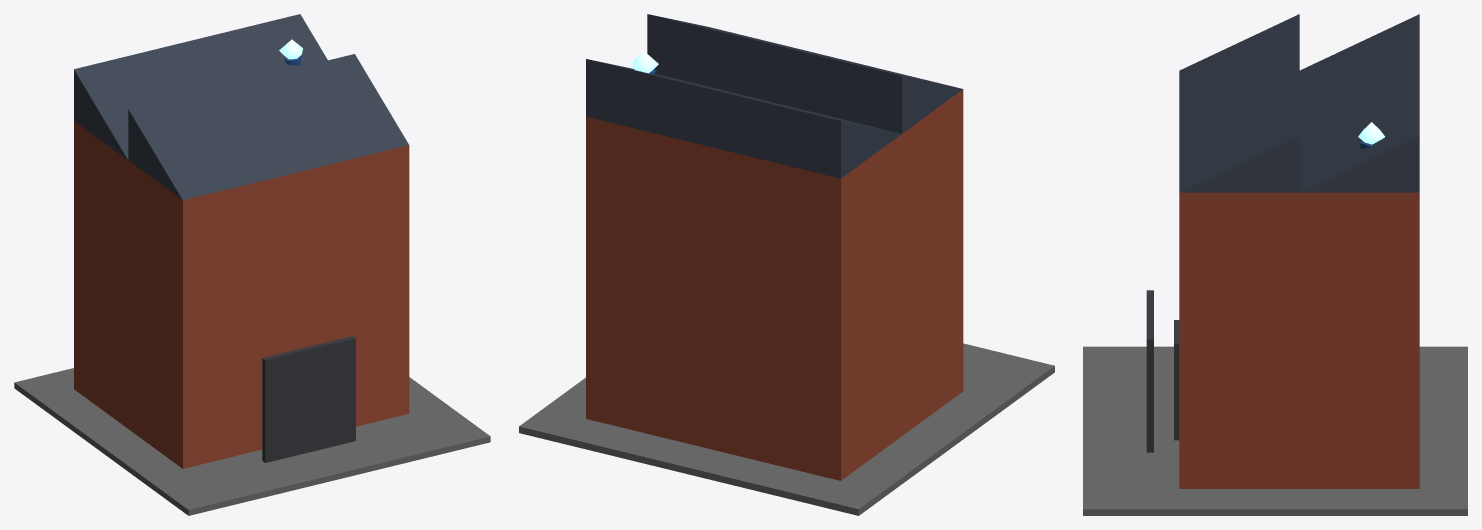
Rendered from bld_special_police_a05_lod2.glb.
The picture shows the model from 3 angles, left to right: view 1: azimuth 30°, elevation 25°; view 2: azimuth 150°, elevation 25°; view 3: azimuth 270°, elevation 25°; orthographic projection. The views are drawn at different scales.
Parts seen in each view (by area): view 1: body; view 2: body; view 3: body.
Part boxes in pixels (bbox=[...]): body: bbox=[14, 14, 490, 515]; body: bbox=[519, 14, 1054, 515]; body: bbox=[1083, 14, 1467, 515].
Bounding box in the file's own units: 8 × 8.25 × 8.
